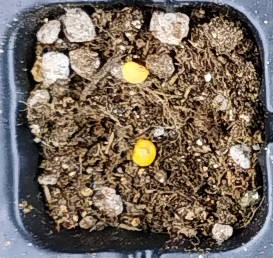chilli seed: (131, 138, 157, 168), (121, 60, 151, 84)
